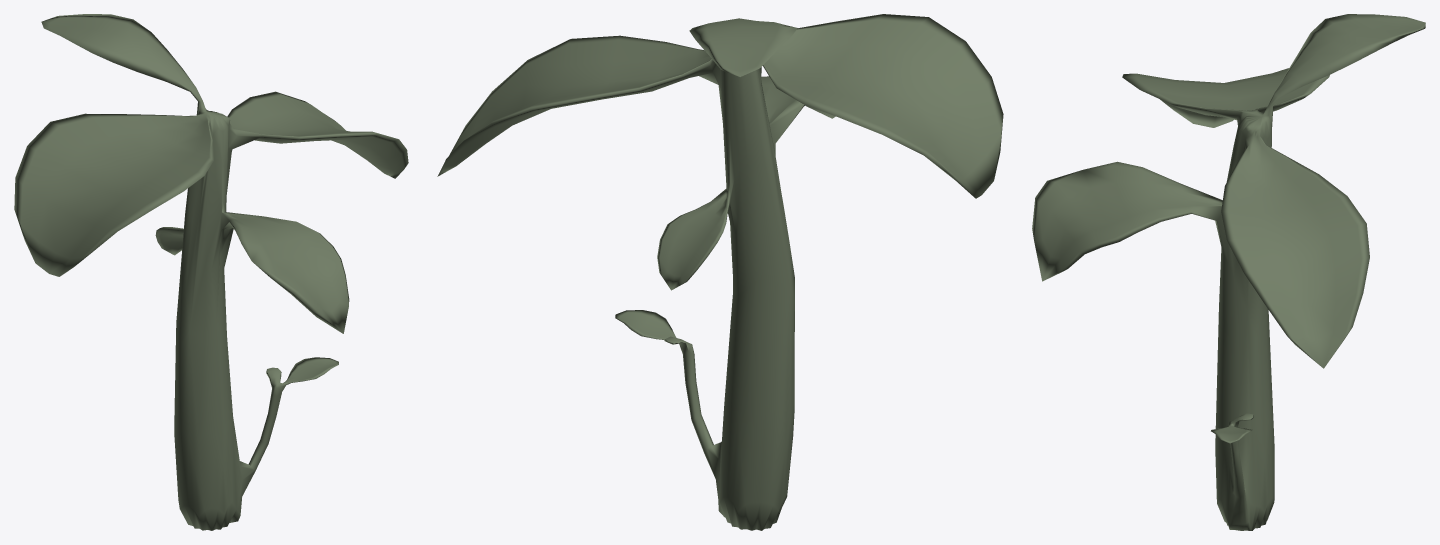
File: plant.fbx
The picture shows the model from 3 angles, left to right: view 1: azimuth 30°, elevation 25°; view 2: azimuth 150°, elevation 25°; view 3: azimuth 270°, elevation 25°; orthographic projection. The views are drawn at different scales.
Visible parts, largest first — view 1: plant1:pCylinder1; view 2: plant1:pCylinder1; view 3: plant1:pCylinder1.
Boxes of the visible parts, left/top/right/bottom form: plant1:pCylinder1: left=14, top=14, right=408, bottom=530; plant1:pCylinder1: left=437, top=14, right=1003, bottom=530; plant1:pCylinder1: left=1032, top=14, right=1425, bottom=530.
Bounding box in the file's own units: 2.12 × 2.3 × 1.76.
